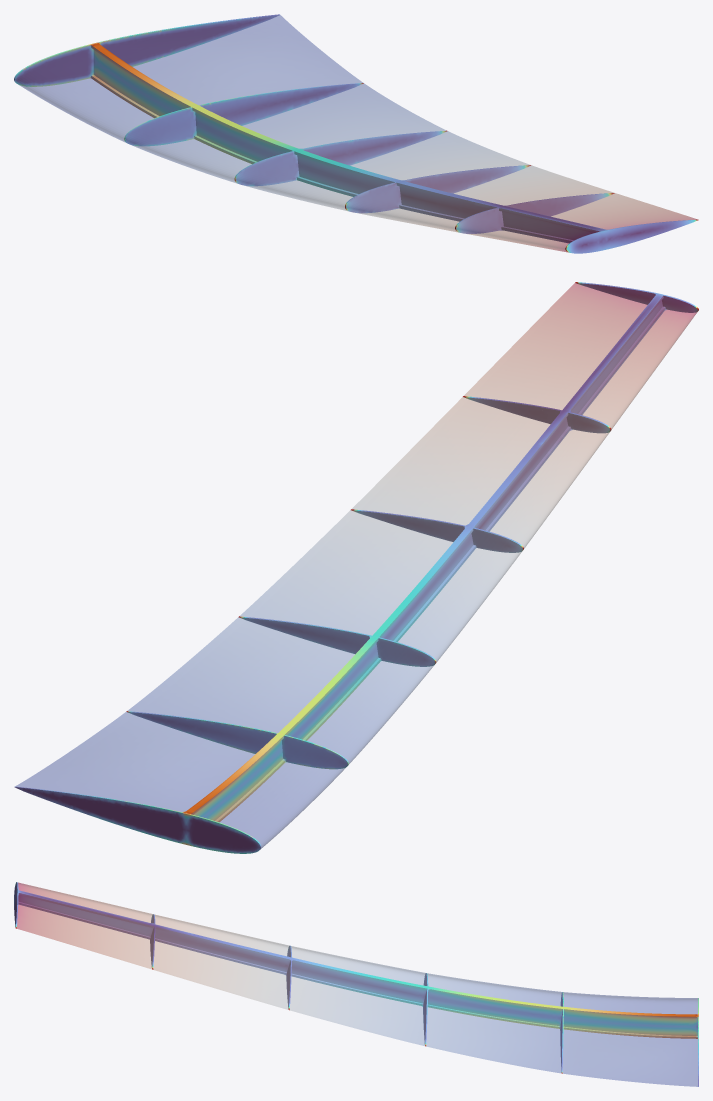
The picture shows the model from 3 angles, top to bottom: view 1: azimuth 30°, elevation 25°; view 2: azimuth 150°, elevation 25°; view 3: azimuth 270°, elevation 25°; orthographic projection. The views are drawn at different scales.
Bounding box in the file's own units: 300 × 237 × 1004.
